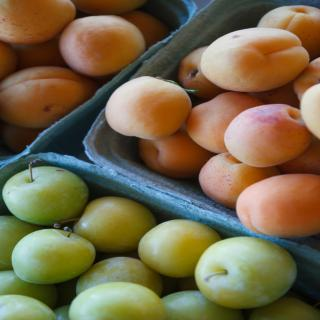Apple: (0, 158, 320, 320), (195, 236, 301, 312)
Peach: (104, 4, 320, 238), (0, 0, 174, 153)
